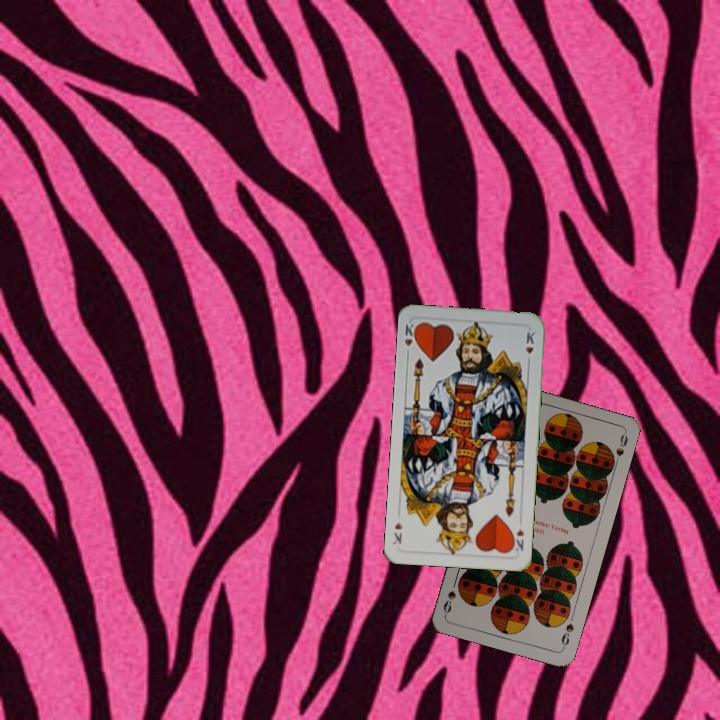HK: (400, 320, 420, 359), (511, 525, 527, 554)
S9: (557, 619, 577, 651)
